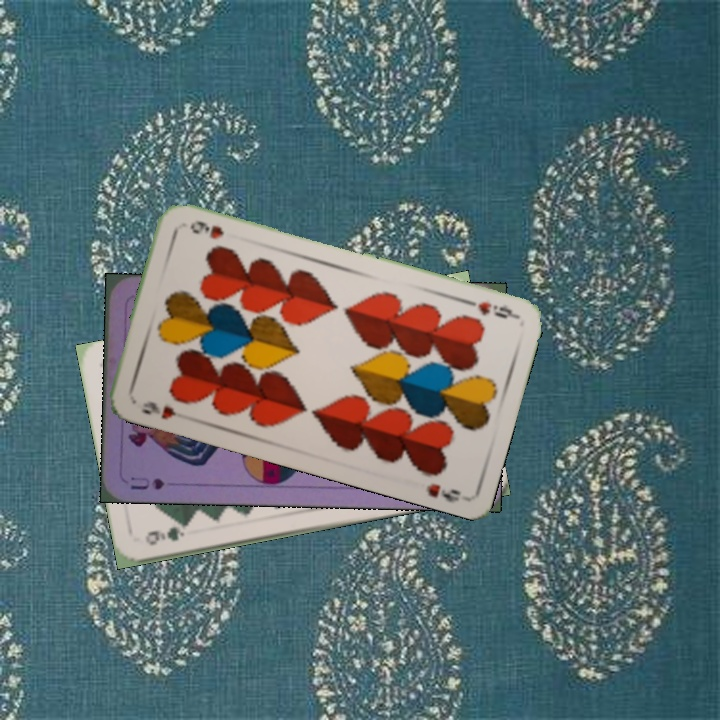G9: (141, 522, 187, 548)
H9: (473, 297, 519, 321), (138, 397, 179, 422)
SU: (126, 473, 167, 493)
